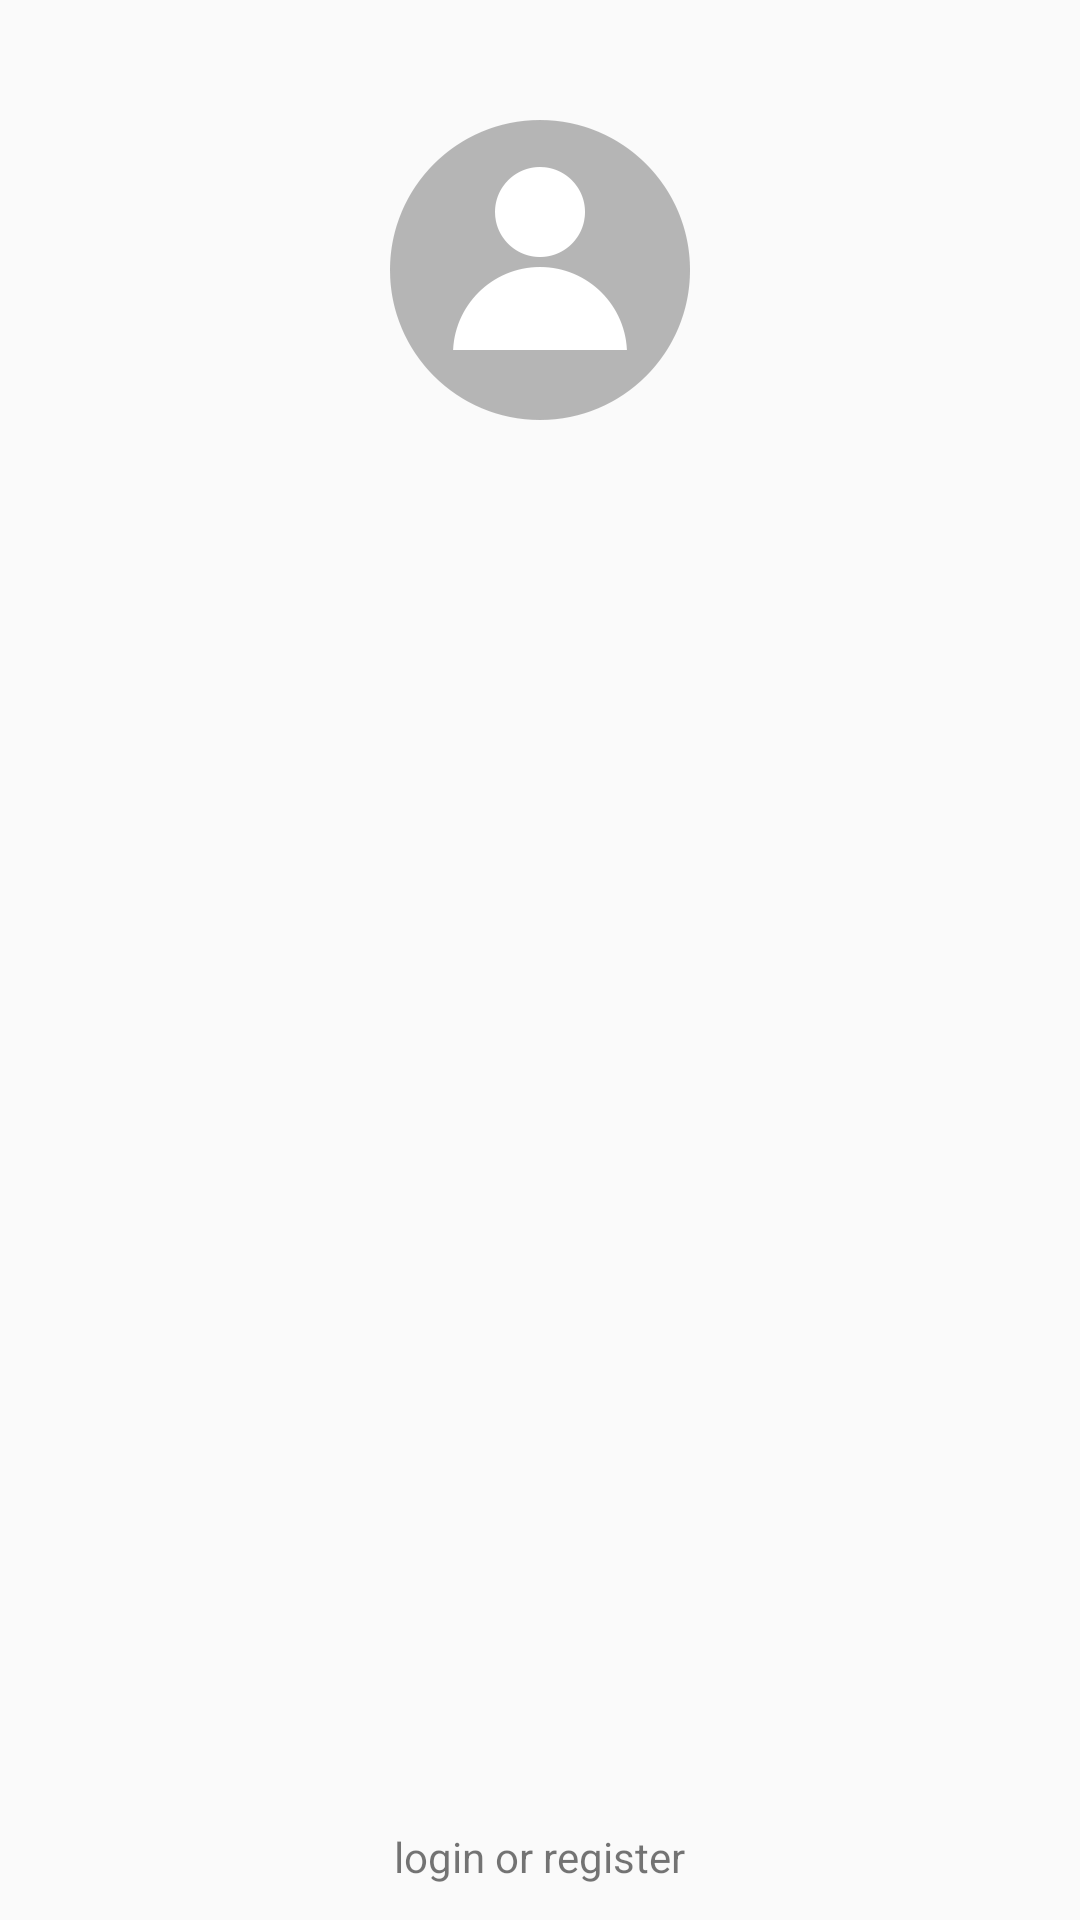

Named icons in this screenshot (1080×1920) and their bounding boxes, (x1, y1, x2, y2):
users: (390, 120, 690, 420)
